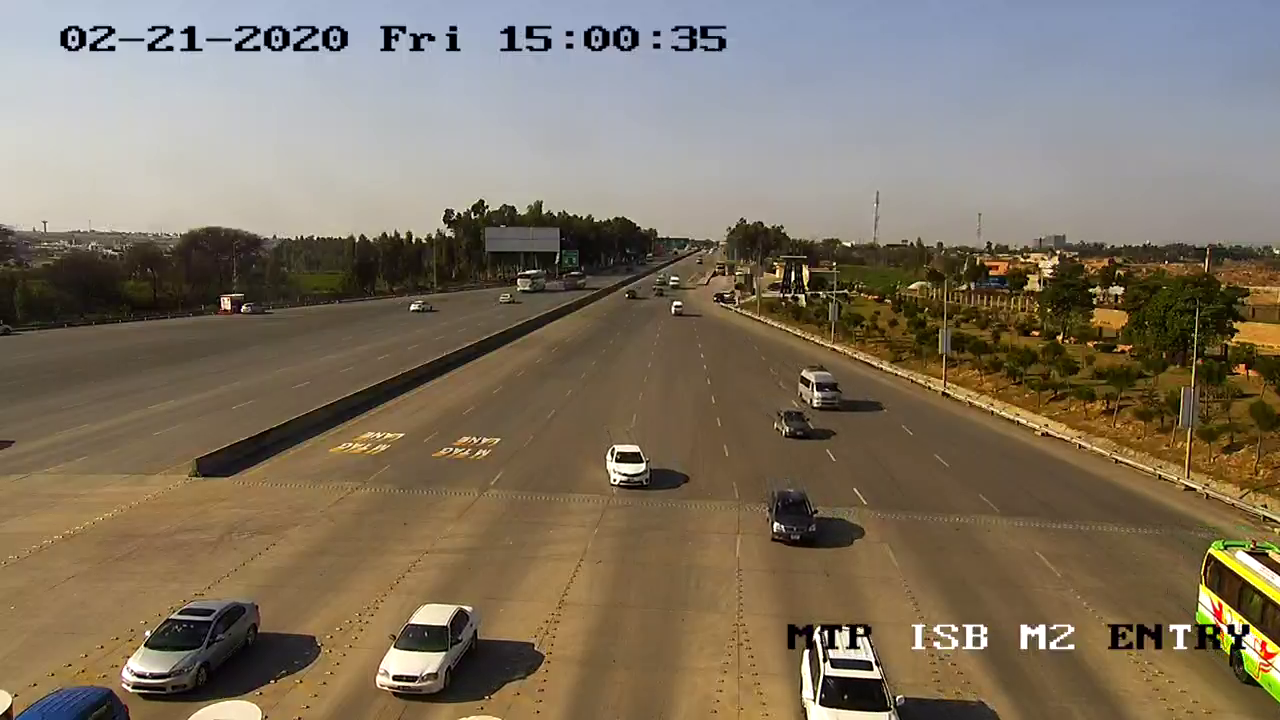f1: (105, 583, 269, 709), (365, 598, 494, 706), (751, 479, 835, 557), (597, 437, 661, 494)
